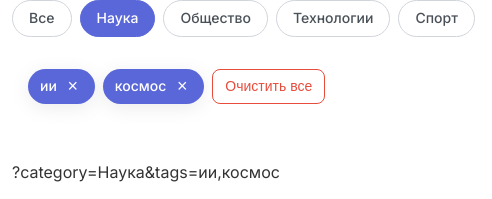
Test case: FeedHeader › removes a single tag and keeps the category
Click the button named "Удалить тег ии" at (73, 86), box [63,76,83,96]
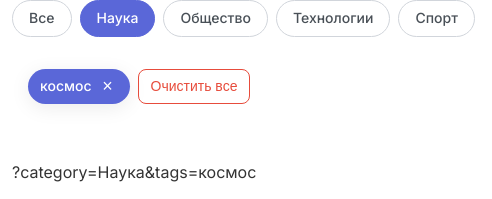
Expected: the text "?category=Наука&tags=космос" is shown, [12,162,256,182]
